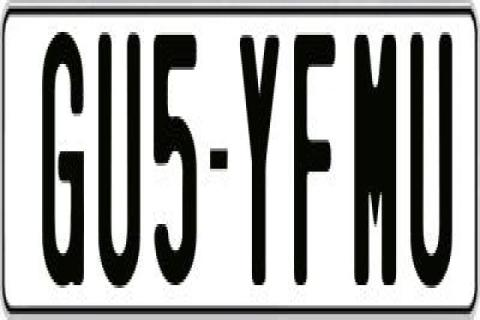0: (152, 32, 202, 300)
F: (292, 29, 340, 297)
G: (40, 27, 82, 286)
M: (354, 32, 398, 296)
U: (95, 29, 141, 303), (410, 32, 456, 291)
Y: (236, 29, 278, 291)
